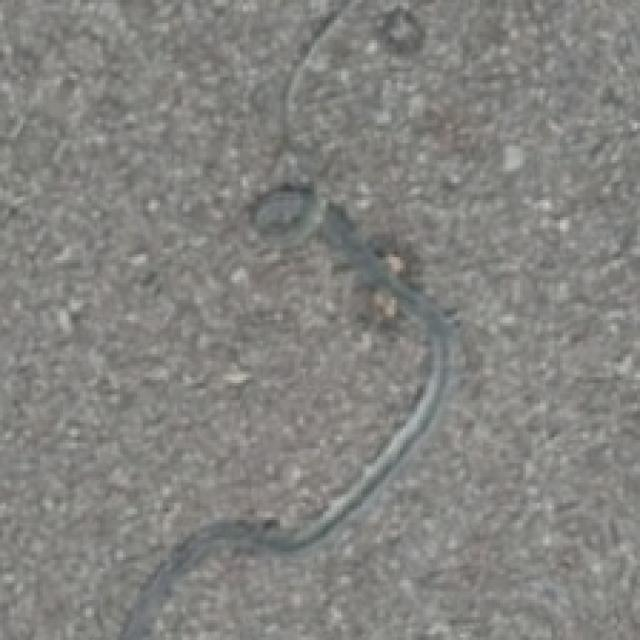paradise tree snake: (123, 0, 454, 637)
